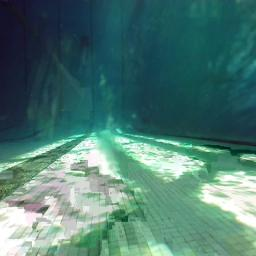Full: (140, 115, 153, 125)
